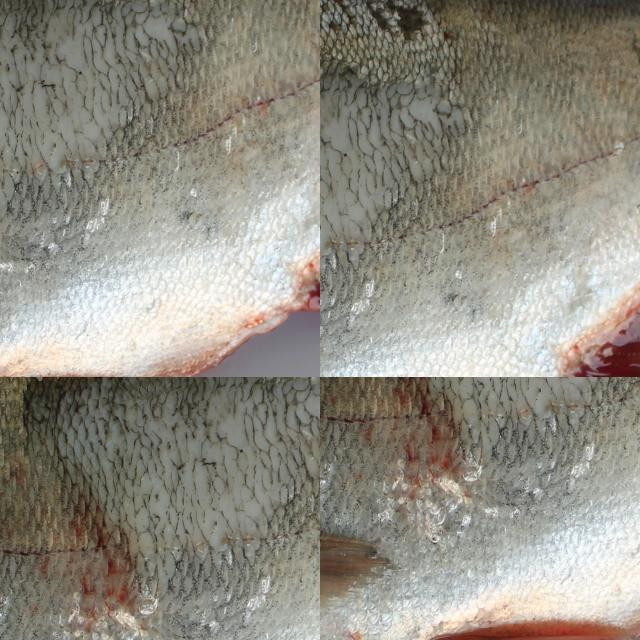fish: (320, 377, 640, 640)
